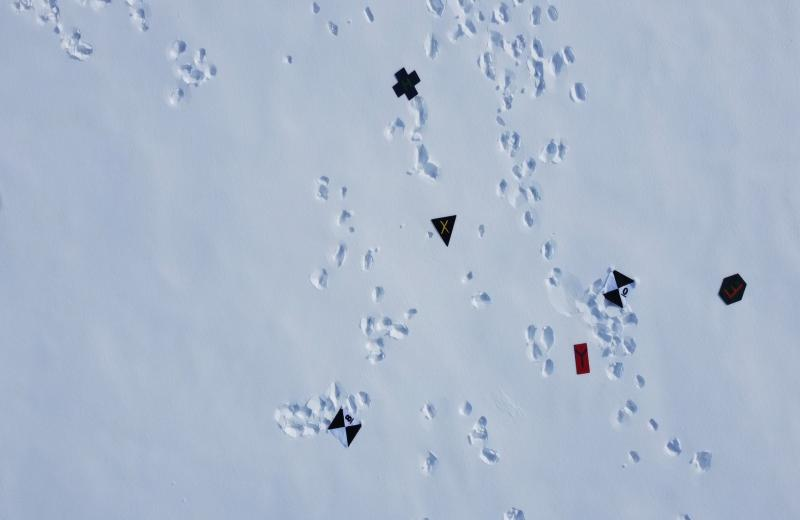Cross: (387, 60, 423, 107)
Hexagon: (713, 268, 751, 313)
Rectangle: (557, 334, 600, 381)
Triangle: (425, 206, 466, 248)
